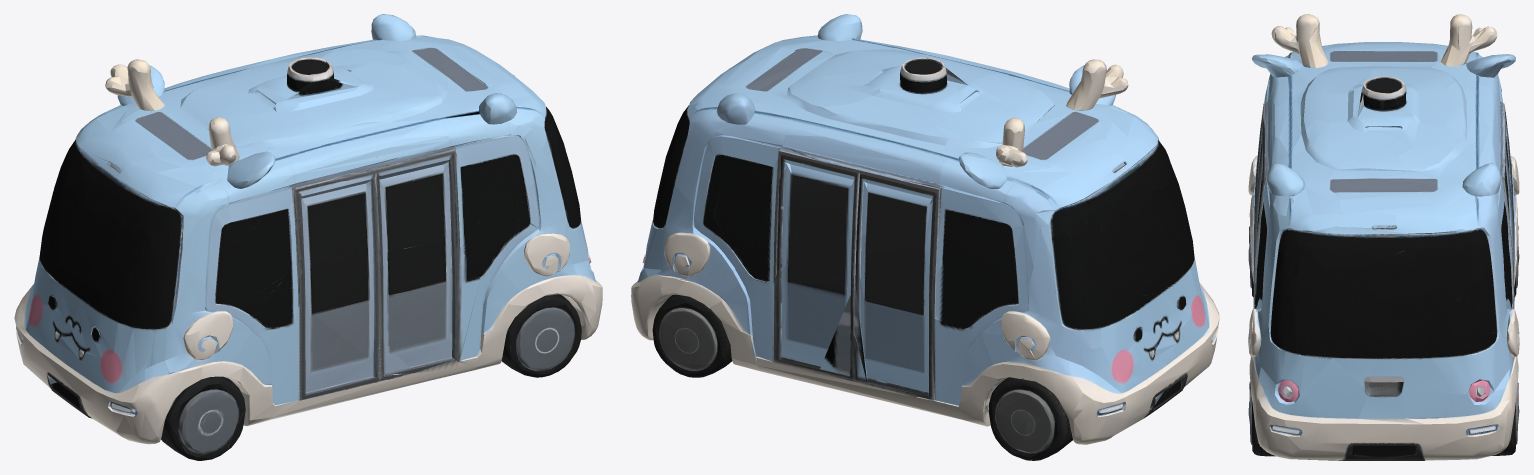
The model's file is AnnyongCar.fbx.
The picture shows the model from 3 angles, left to right: view 1: azimuth 30°, elevation 25°; view 2: azimuth 150°, elevation 25°; view 3: azimuth 270°, elevation 25°; orthographic projection. The views are drawn at different scales.
Visible parts, largest first — view 1: output_unwrapped; view 2: output_unwrapped; view 3: output_unwrapped.
Part boxes in pixels (x1,y1,x2,y2): output_unwrapped: (14,14,602,460); output_unwrapped: (631,14,1219,460); output_unwrapped: (1248,14,1519,460).
Size of the model in its own units: 190 by 117 by 95.85.
Materials: 1 (1 with a texture image).
